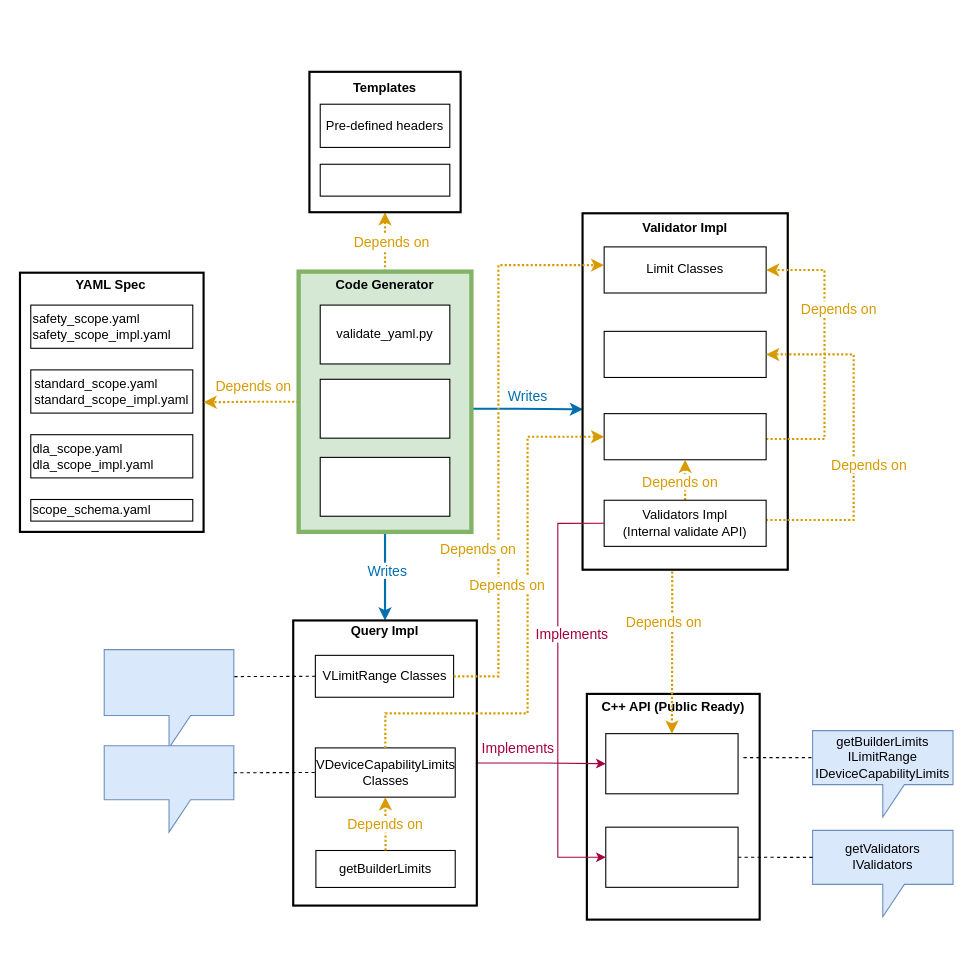
The diagram is 972 pixels wide and 964 high, and some of its shapes have lost their labels. Here are the shapes that lost their labels. From the top down, the centre of each, then its label:
At pixel 384 179: "Jinja2 snippets".
At pixel 684 353: "Validator Classes".
At pixel 384 408: "generate_validator.py".
At pixel 684 436: "Constraints Classes (Stores Range Limits)".
At pixel 384 486: "generate_query.py".
At pixel 168 698: "Int64Limit FloatLimit FlagLimit BitsetLimit".
At pixel 671 763: "Query API".
At pixel 168 788: "StandardGpuLimits SafeGpuLimits DlaLimits".
At pixel 671 856: "Validator API".
